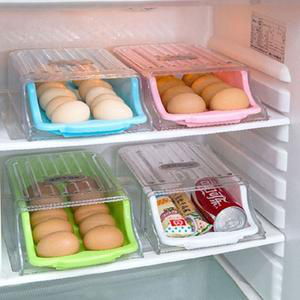egg: (31, 61, 136, 122), (31, 202, 124, 253), (152, 72, 254, 114)
